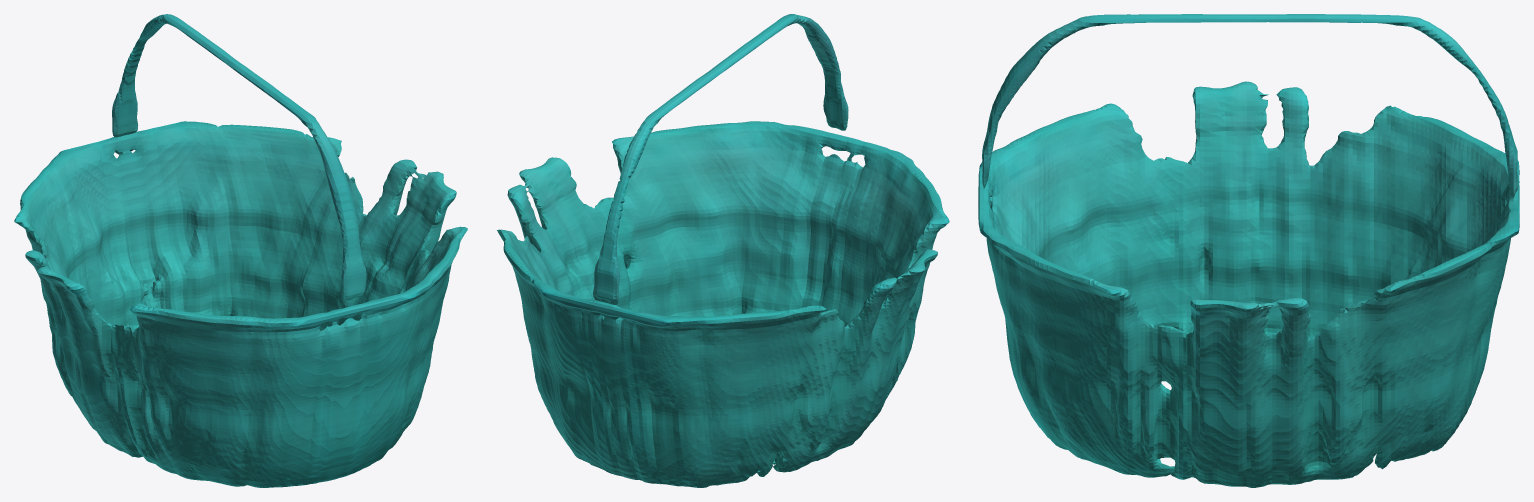
The picture shows the model from 3 angles, left to right: view 1: azimuth 30°, elevation 25°; view 2: azimuth 150°, elevation 25°; view 3: azimuth 270°, elevation 25°; orthographic projection. The views are drawn at different scales.
Visible parts, largest first — view 1: geometry_0; view 2: geometry_0; view 3: geometry_0.
Boxes of the visible parts, x1,y1,x2,y2 form: geometry_0: (14, 14, 467, 487); geometry_0: (497, 14, 949, 487); geometry_0: (978, 14, 1519, 487).
Bounding box in the file's own units: 1.59 × 1.31 × 1.6.
